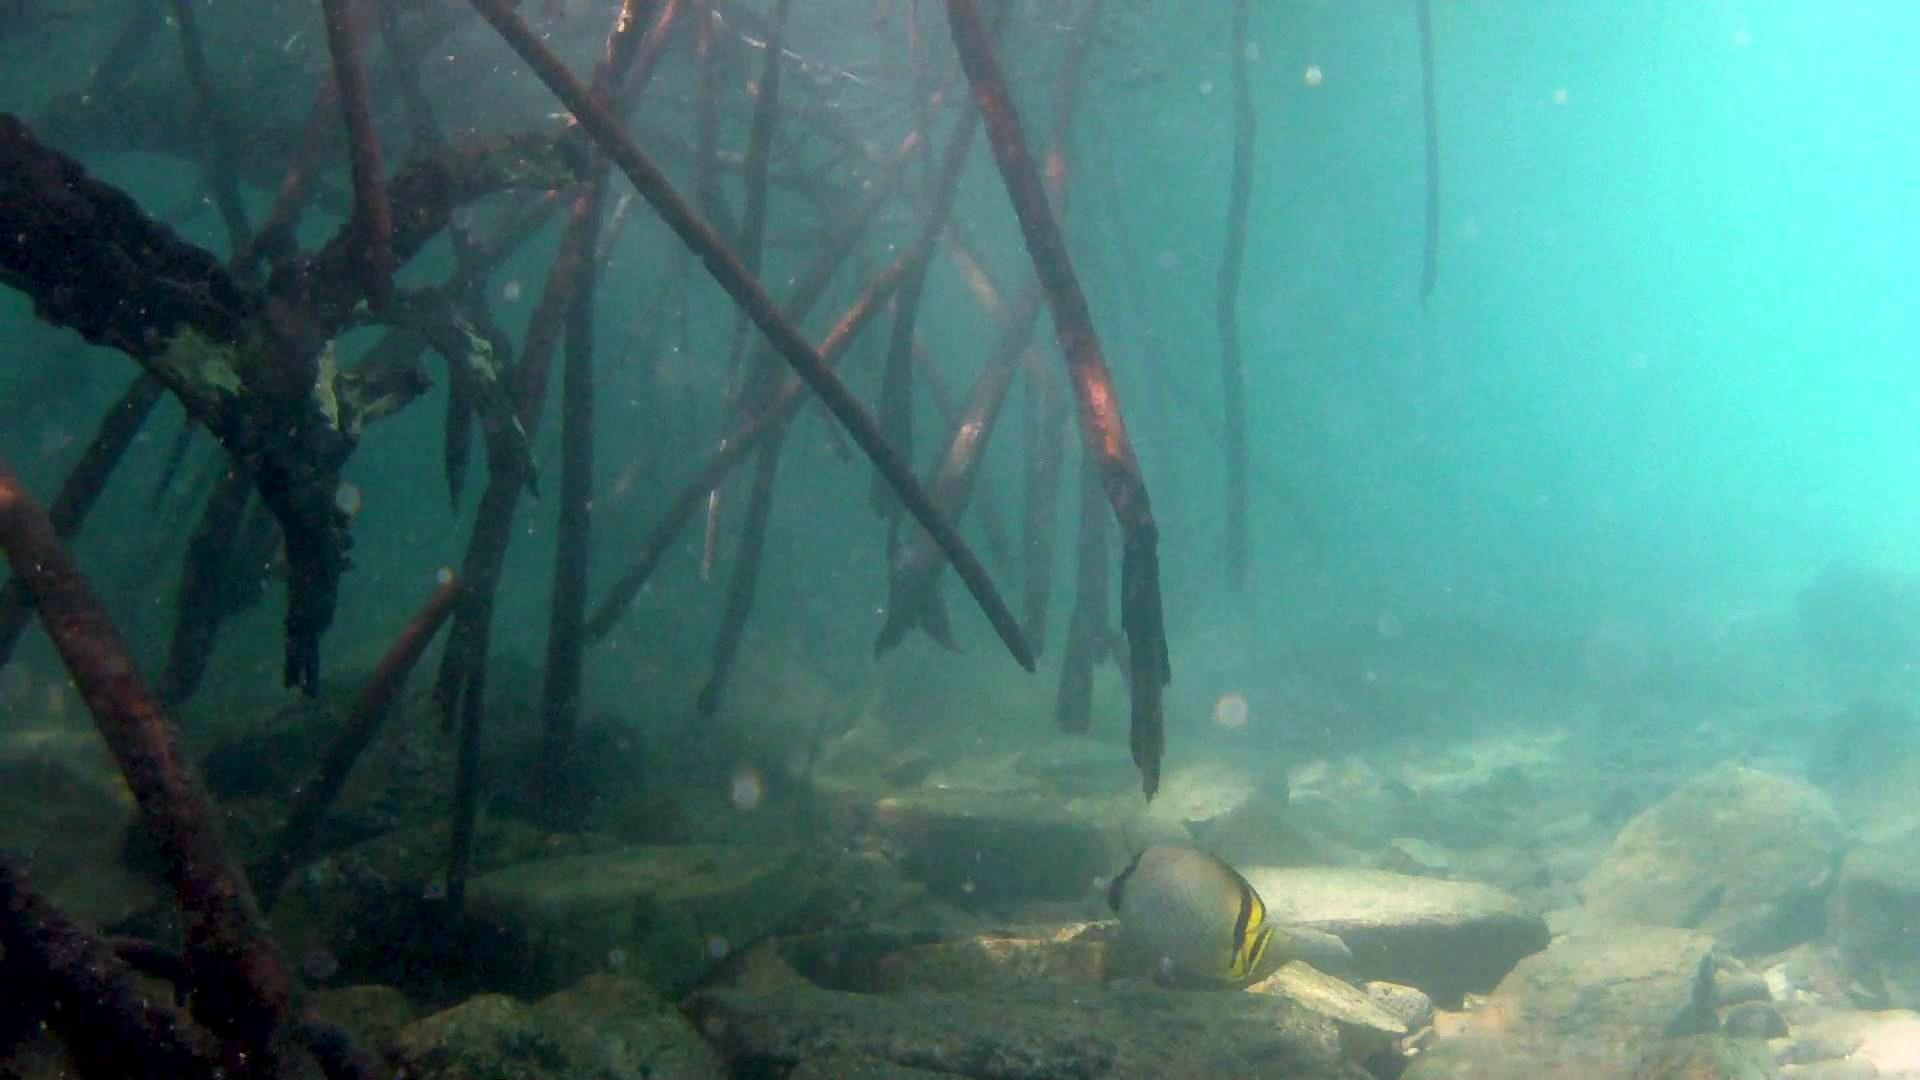chaetodon vagabundus: (1097, 837, 1279, 993)
